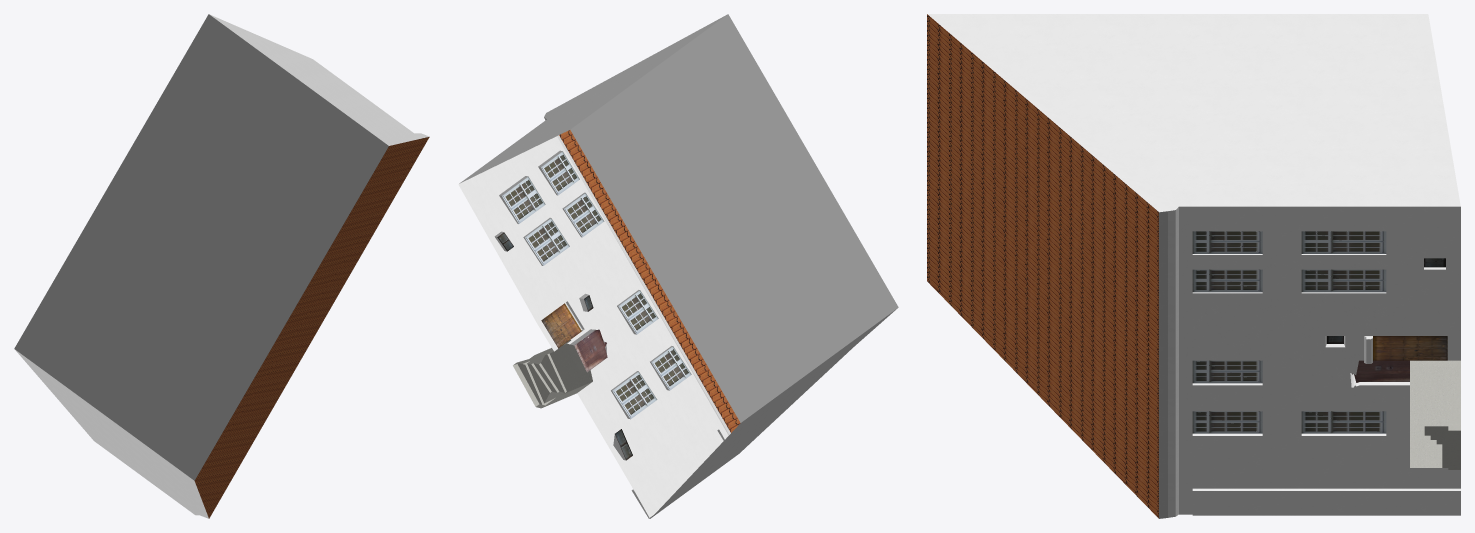
The model's file is Pyhavaimu_13-origo.obj.
3 renders of one model, left to right at view 1: azimuth 30°, elevation 25°; view 2: azimuth 150°, elevation 25°; view 3: azimuth 270°, elevation 25°, orthographic. The views are drawn at different scales.
Parts seen in each view (by area): view 1: xxx, Box001; view 2: xxx, Box001; view 3: Box001.
Part boxes in pixels (x1=…): xxx: x1=14, y1=14, x2=388, y2=480; Box001: x1=14, y1=14, x2=429, y2=518; xxx: x1=570, y1=14, x2=898, y2=422; Box001: x1=458, y1=15, x2=897, y2=518; Box001: x1=927, y1=14, x2=1460, y2=518.
Bounding box in the file's own units: 12.19 × 15 × 12.72.
